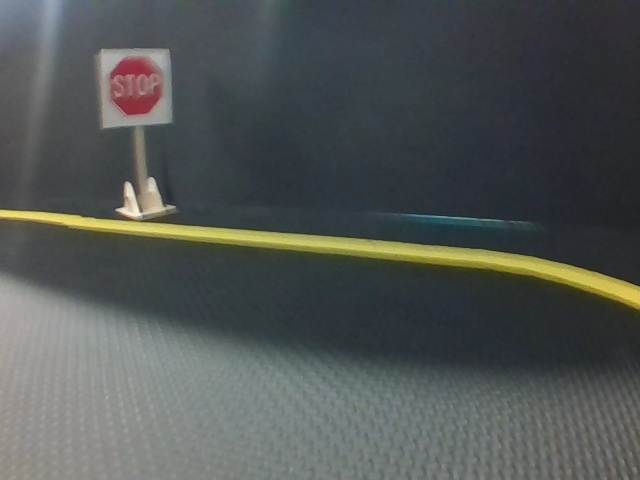stop: (97, 46, 173, 128)
